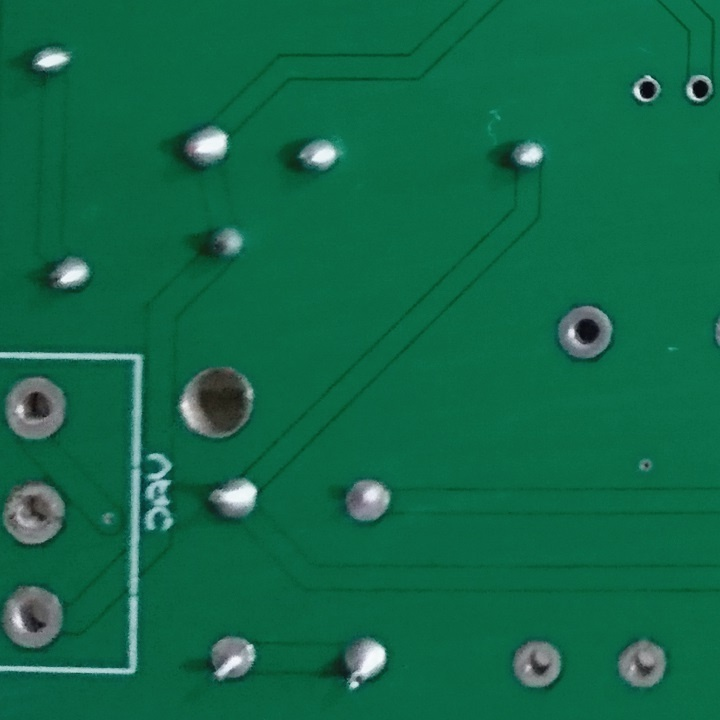F: (1, 581, 71, 655), (1, 372, 73, 441), (1, 479, 70, 546), (551, 304, 617, 362), (614, 633, 671, 692), (509, 635, 565, 692), (206, 632, 259, 688), (339, 478, 396, 524), (683, 71, 716, 109), (629, 75, 664, 107)
